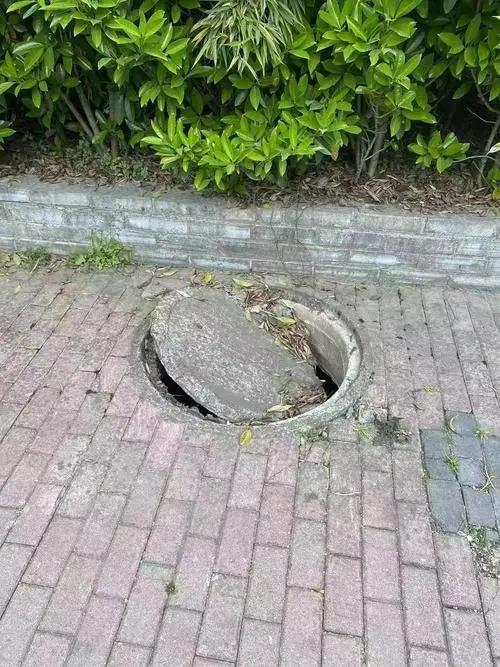wellcover: (120, 263, 387, 448)
